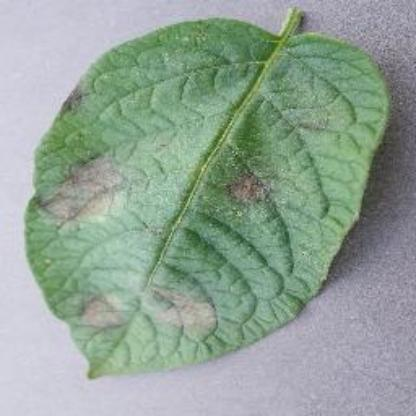Late-Blight: (22, 6, 390, 388)
